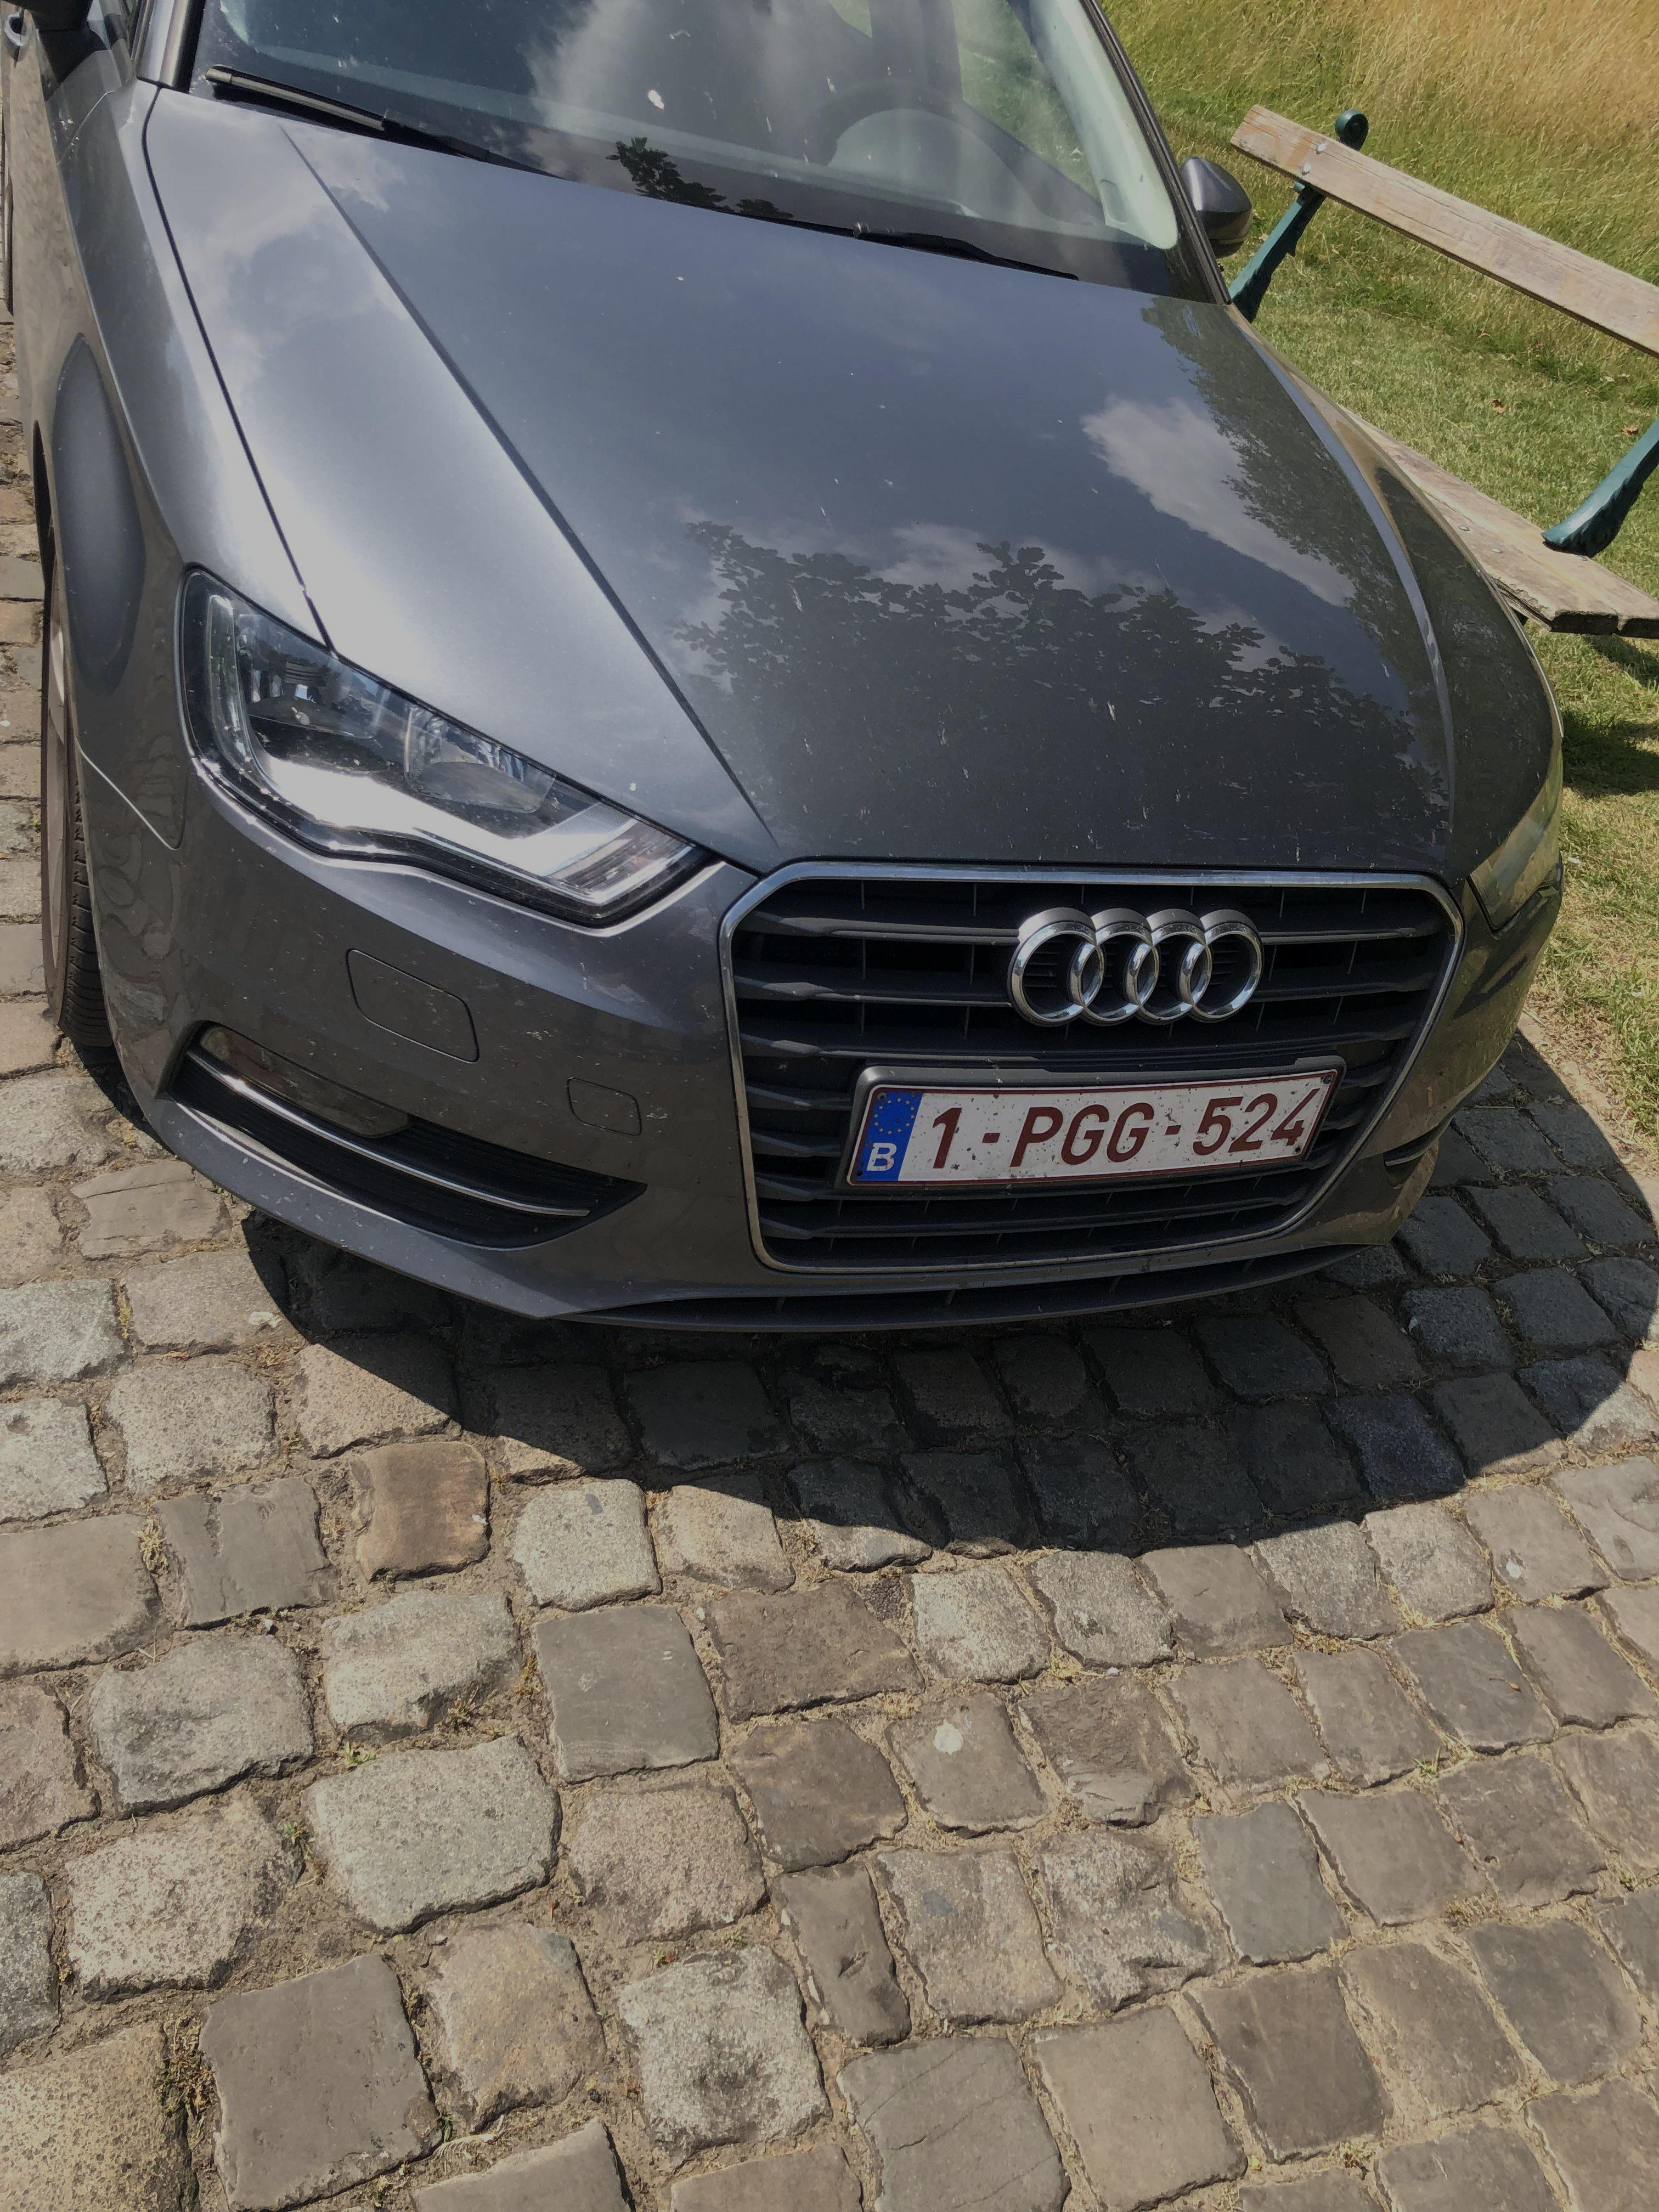plate: (819, 1041, 1351, 1215)
